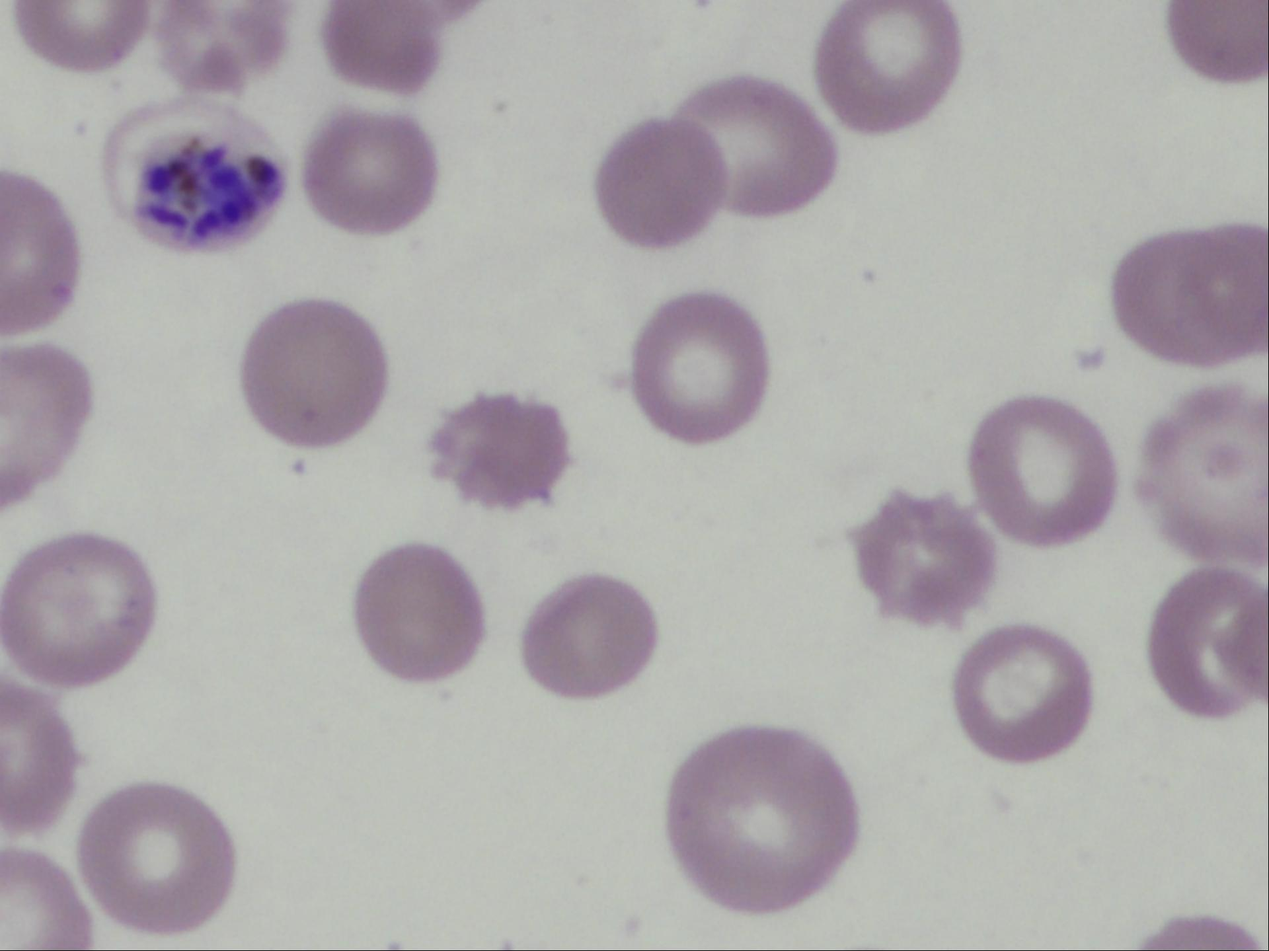Infected: (107, 96, 289, 254)
Uninfected: (667, 728, 857, 912), (79, 784, 233, 932), (3, 534, 151, 687), (677, 77, 833, 218), (1141, 385, 1265, 560), (242, 300, 386, 446), (1115, 223, 1264, 363), (974, 402, 1116, 546), (631, 294, 768, 441), (853, 493, 994, 626), (953, 627, 1091, 761), (817, 2, 960, 130), (354, 545, 484, 681), (1148, 570, 1262, 717), (303, 111, 436, 233), (596, 120, 722, 247), (523, 576, 653, 697), (432, 393, 571, 503)
